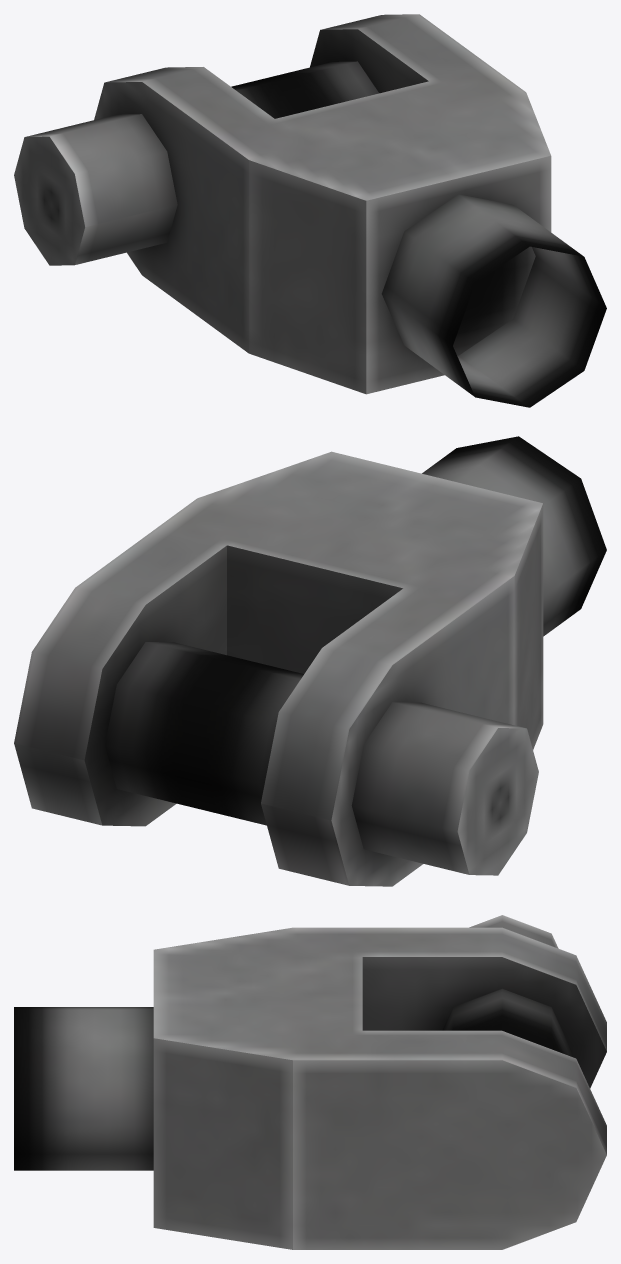
File: sar neck.obj
3 renders of one model, top to bottom at view 1: azimuth 30°, elevation 25°; view 2: azimuth 150°, elevation 25°; view 3: azimuth 270°, elevation 25°, orthographic. The views are drawn at different scales.
Parts seen in each view (by area): view 1: 2; view 2: 2; view 3: 2.
Boxes of the visible parts, left/top/right/bottom form: 2: left=14, top=14, right=606, bottom=407; 2: left=14, top=436, right=606, bottom=886; 2: left=14, top=915, right=606, bottom=1249.
Bounding box in the file's own units: 0.15 × 0.075 × 0.2125.
Materials: 1 (1 with a texture image).
